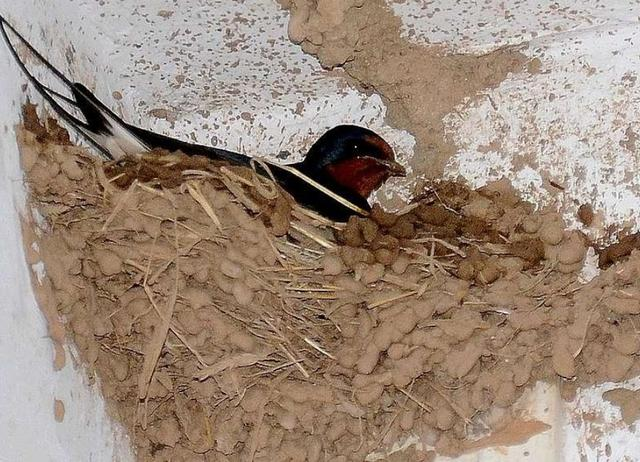bird-nest: (21, 129, 608, 462)
